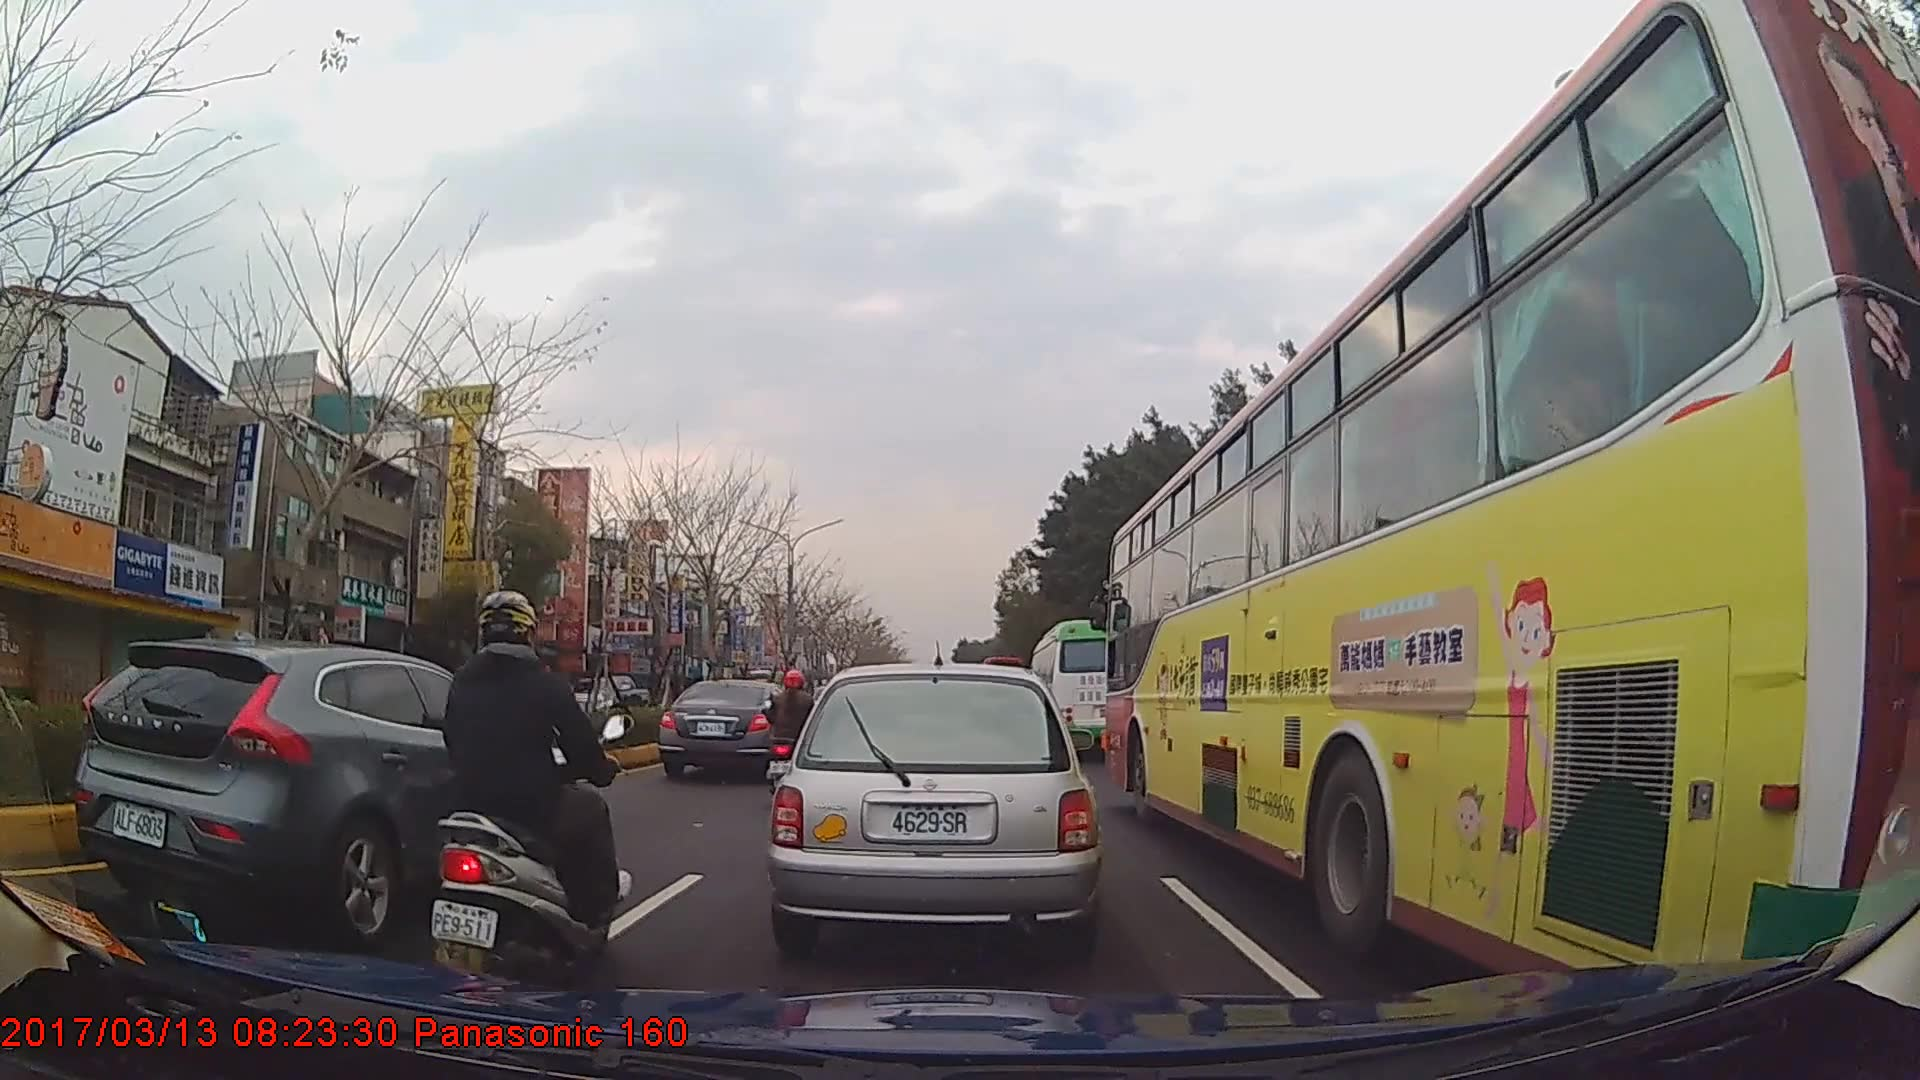rider: (432, 589, 625, 970), (765, 668, 823, 790)
vehicle: (1103, 0, 1920, 1010), (73, 635, 576, 931), (769, 661, 1102, 955), (657, 675, 800, 782), (1024, 619, 1128, 752), (557, 673, 650, 731)
